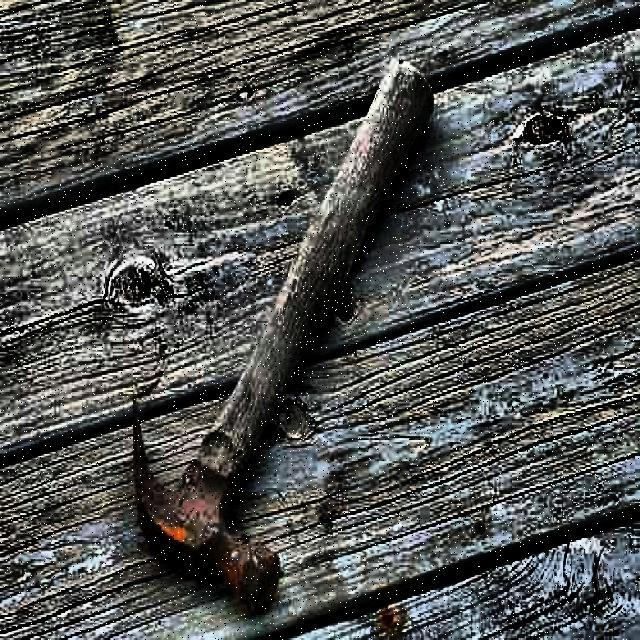hammer: (126, 54, 437, 614)
